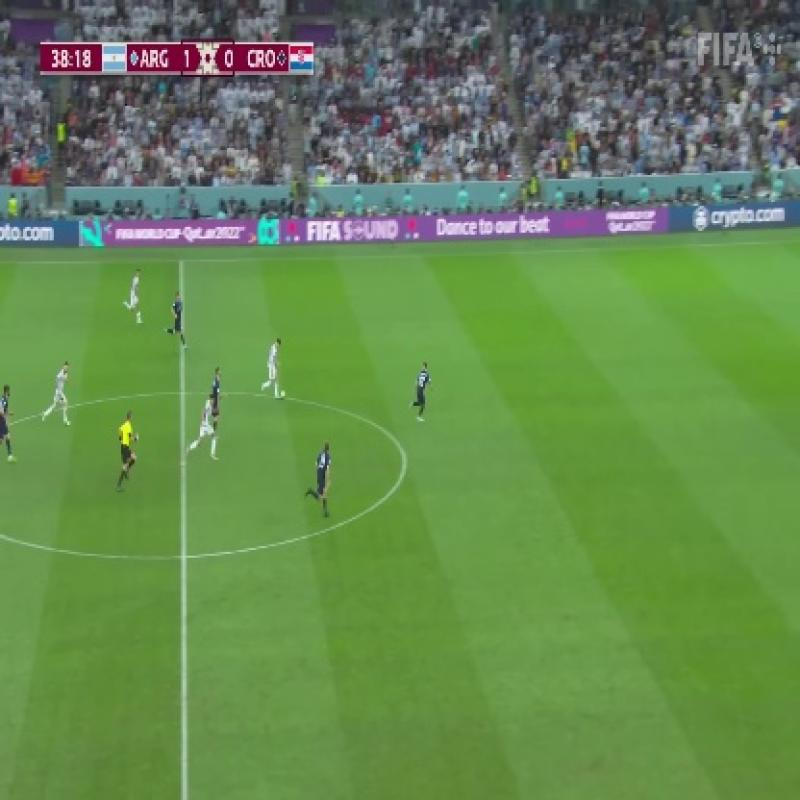13: (172, 248, 190, 271)
14: (171, 379, 192, 406)
15: (167, 536, 196, 576)
c: (388, 442, 427, 484)
